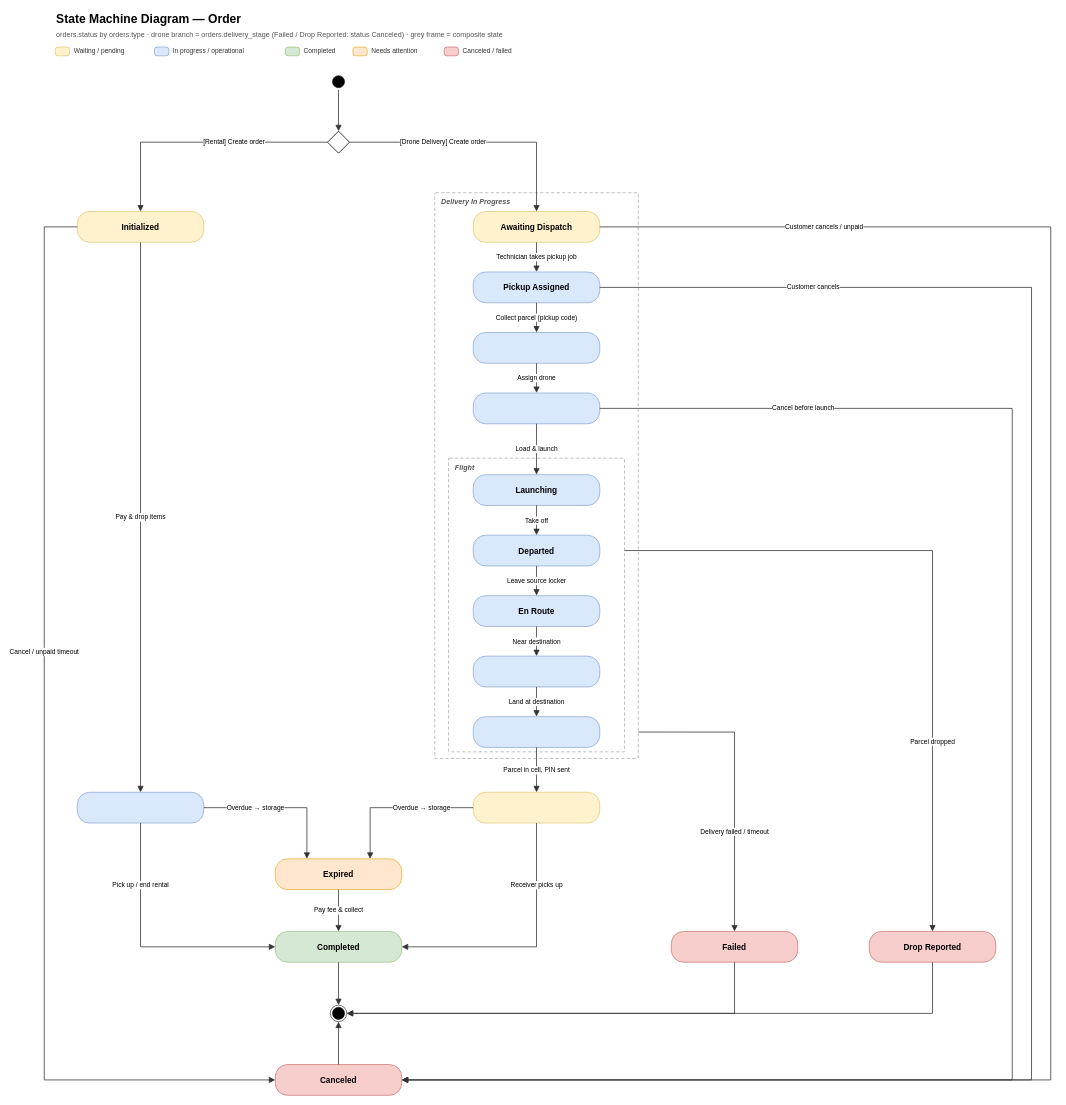
The diagram is 1066 pixels wide and 1105 high, and some of its shapes have lost their labels. Here are the shapes that lost their labels. From the top down, the centre of each, then its label:
At pixel 536 347: "Picked Up".
At pixel 536 408: "Accepted".
At pixel 536 671: "Approaching".
At pixel 536 731: "Arrived".
At pixel 140 807: "Storing".
At pixel 536 807: "Ready For Pickup".
